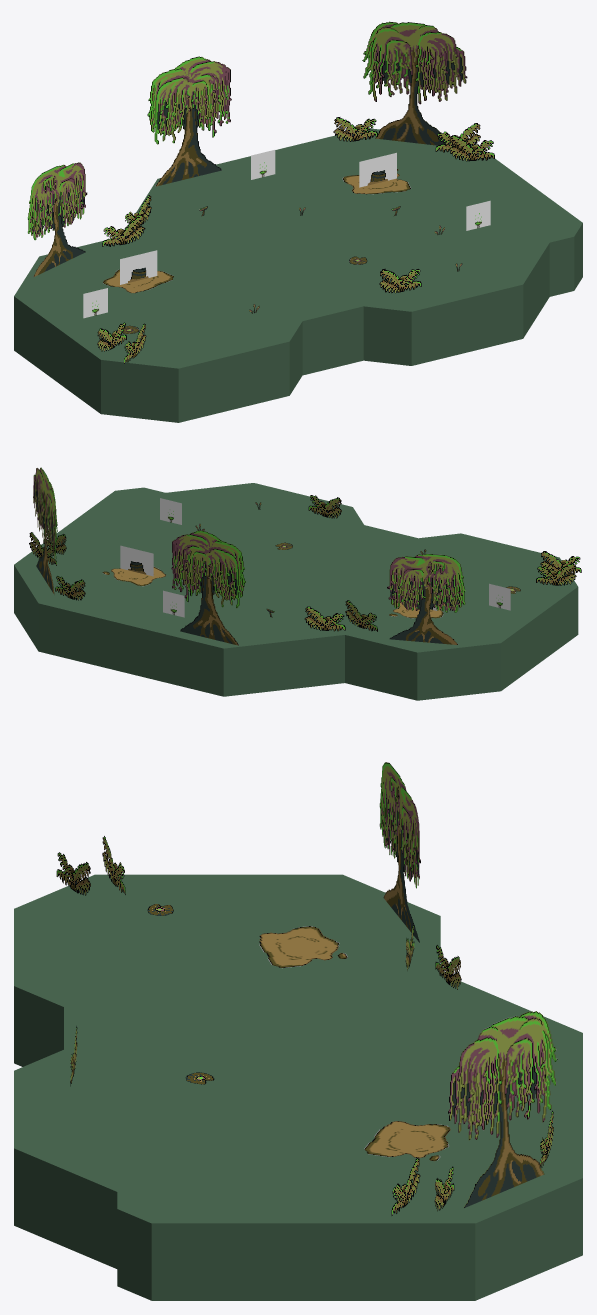
Rendered from Nivel1.fbx.
The picture shows the model from 3 angles, top to bottom: view 1: azimuth 30°, elevation 25°; view 2: azimuth 150°, elevation 25°; view 3: azimuth 270°, elevation 25°; orthographic projection. The views are drawn at different scales.
Visible parts, largest first — view 1: Base, Arbol 1.002, Arbol 2.002, Arbol 3.002, Barril 1.004, Barril 1.005, Helecho.019, Barro 1.004, Helecho.018, Helecho.013, Barro 1.005, Helecho.017 (+5 smaller); view 2: Base, Arbol 2.002, Arbol 3.002, Arbol 1.002, Barril 1.004, Helecho.012, Helecho.015, Barro 1.004, Helecho.017, Helecho.013, Helecho.016, Flor curativa.004 (+5 smaller); view 3: Base, Arbol 1.002, Arbol 3.002, Barro 1.004, Barro 1.005, Helecho.016, Helecho.019.
Boxes of the visible parts, box(x1,y1,x2,y2) form: Base: box(14, 128, 582, 422); Arbol 1.002: box(362, 21, 467, 145); Arbol 2.002: box(147, 56, 231, 186); Arbol 3.002: box(27, 162, 87, 277); Barril 1.004: box(359, 152, 396, 187); Barril 1.005: box(120, 250, 157, 284); Helecho.019: box(448, 135, 494, 161); Barro 1.004: box(342, 169, 410, 194); Helecho.018: box(333, 117, 377, 141); Helecho.013: box(102, 215, 145, 246); Barro 1.005: box(103, 269, 173, 293); Helecho.017: box(379, 268, 421, 293); Base: box(14, 483, 578, 700); Arbol 2.002: box(171, 530, 245, 645); Arbol 3.002: box(387, 553, 465, 644); Arbol 1.002: box(33, 467, 57, 594); Barril 1.004: box(120, 545, 153, 576); Helecho.012: box(304, 606, 345, 631); Helecho.015: box(536, 563, 576, 585); Barro 1.004: box(102, 566, 165, 586); Helecho.017: box(308, 495, 341, 518); Helecho.013: box(345, 600, 377, 631); Helecho.016: box(540, 551, 581, 573); Flor curativa.004: box(489, 583, 510, 610); Base: box(14, 874, 582, 1300); Arbol 1.002: box(448, 1011, 557, 1207); Arbol 3.002: box(379, 762, 420, 942); Barro 1.004: box(364, 1121, 450, 1161); Barro 1.005: box(259, 926, 347, 968); Helecho.016: box(56, 852, 90, 895); Helecho.019: box(391, 1157, 420, 1215).
Size of the model in its own units: 1943 by 658 by 1333.
24 materials, 23 textured.
